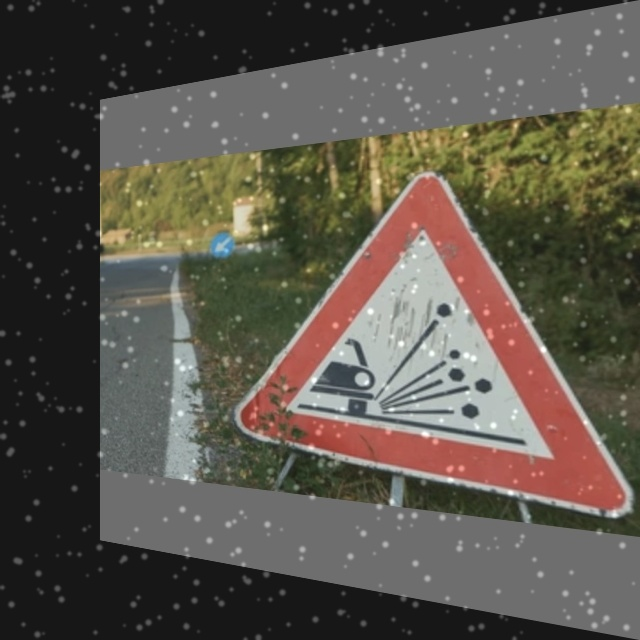Loose_Gravel: (258, 155, 608, 493)
